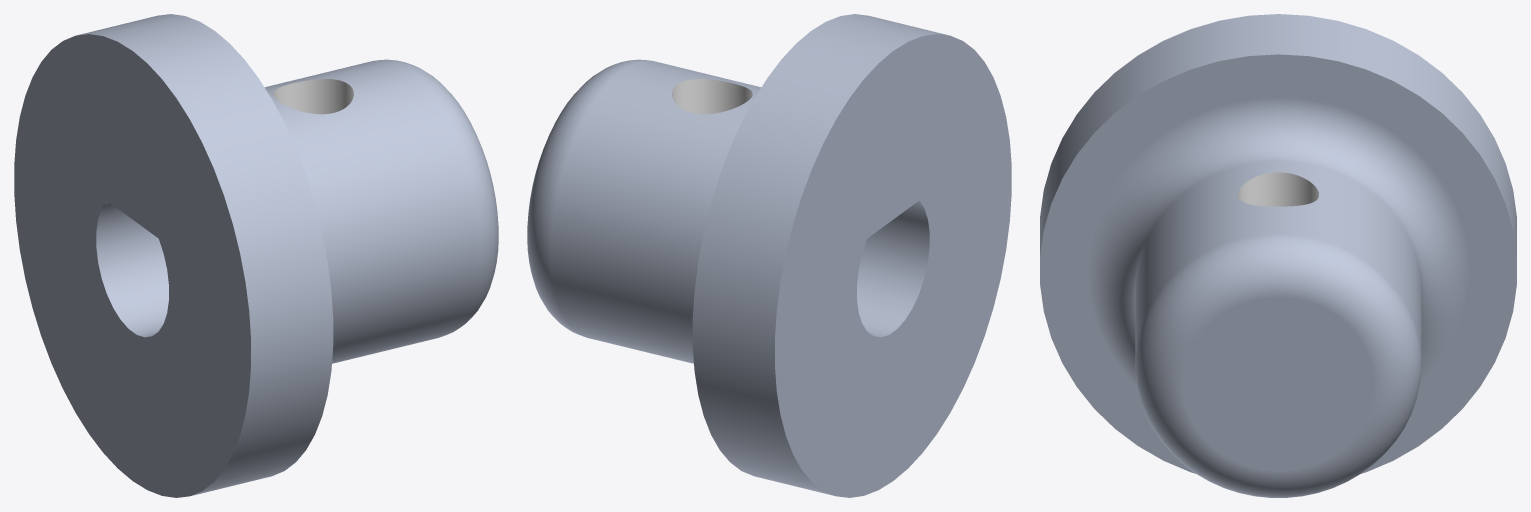
Rendered from End_Cap.gltf.
3 views of the same model, side by side, from view 1: azimuth 30°, elevation 25°; view 2: azimuth 150°, elevation 25°; view 3: azimuth 270°, elevation 25° (orthographic).
Parts seen in each view (by area): view 1: End Cap; view 2: End Cap; view 3: End Cap.
Part boxes in pixels (left/top/right/bottom): End Cap: left=14, top=14, right=498, bottom=497; End Cap: left=527, top=14, right=1011, bottom=497; End Cap: left=1040, top=14, right=1516, bottom=497.
Bounding box in the file's own units: 0.0241 × 0.0318 × 0.0317.
